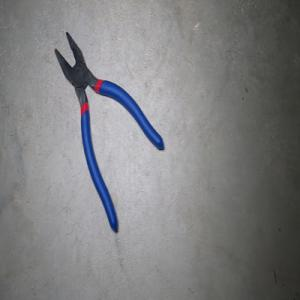Pliers: (54, 31, 164, 232)
